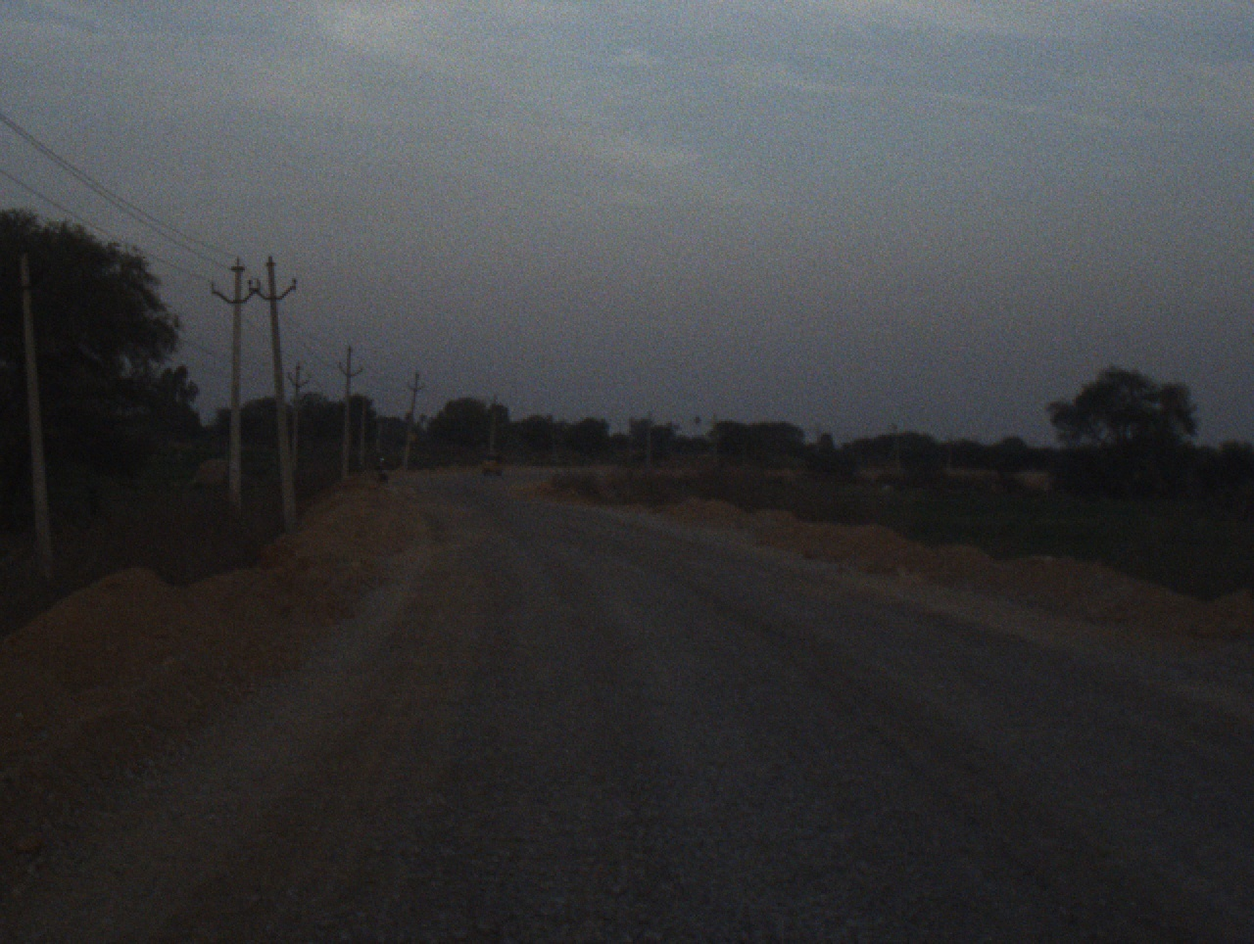autorickshaw: (483, 448, 503, 479)
motorcycle: (368, 452, 390, 485)
